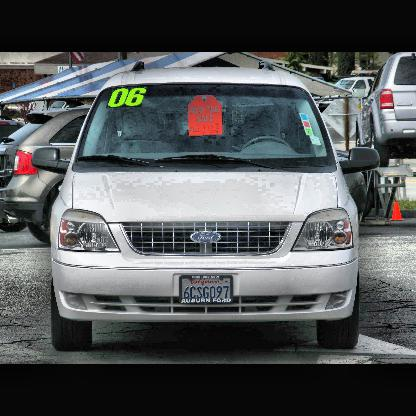Ford Freestar Minivan 2007: (52, 64, 357, 353)
